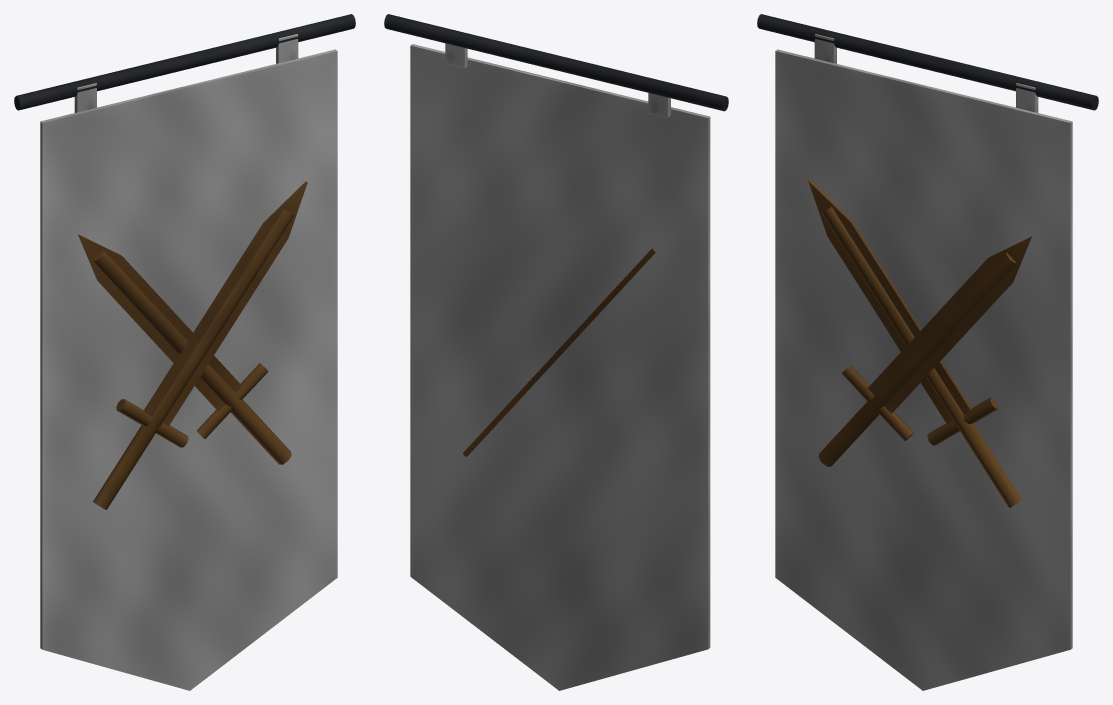
File: Furn_Banner_Sword.fbx
The picture shows the model from 3 angles, left to right: view 1: azimuth 30°, elevation 25°; view 2: azimuth 150°, elevation 25°; view 3: azimuth 330°, elevation 25°; orthographic projection.
Visible parts, largest first — view 1: Furn_Banner_Sword; view 2: Furn_Banner_Sword; view 3: Furn_Banner_Sword.
Boxes of the visible parts, x1=… form: Furn_Banner_Sword: x1=14, y1=14, x2=355, y2=690; Furn_Banner_Sword: x1=384, y1=14, x2=728, y2=690; Furn_Banner_Sword: x1=757, y1=14, x2=1098, y2=690.
Size of the model in its own units: 1 by 1.8 by 0.08.
3 materials, 3 textured.
